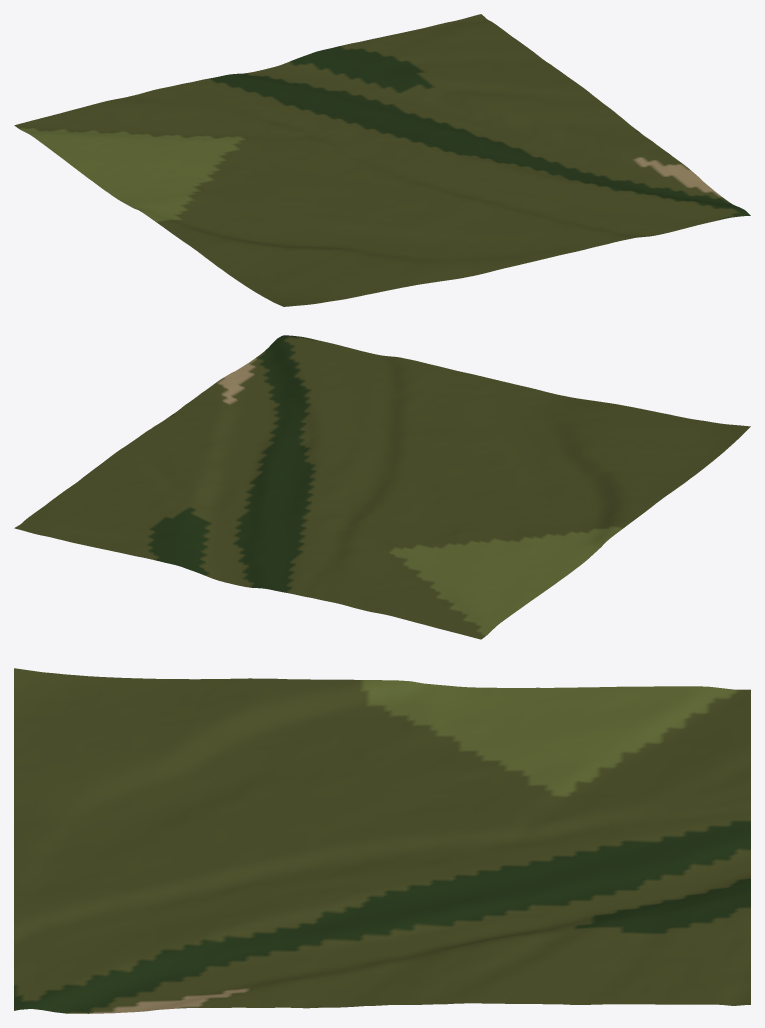
File: terrain_17_-11.glb
3 renders of one model, top to bottom at view 1: azimuth 30°, elevation 25°; view 2: azimuth 150°, elevation 25°; view 3: azimuth 270°, elevation 25°, orthographic. The views are drawn at different scales.
Parts seen in each view (by area): view 1: terrain_17_-11; view 2: terrain_17_-11; view 3: terrain_17_-11.
Boxes of the visible parts, x1=… form: terrain_17_-11: x1=14, y1=14, x2=750, y2=306; terrain_17_-11: x1=14, y1=335, x2=750, y2=639; terrain_17_-11: x1=14, y1=668, x2=750, y2=1013.
Size of the model in its own units: 256 by 13.11 by 256.
